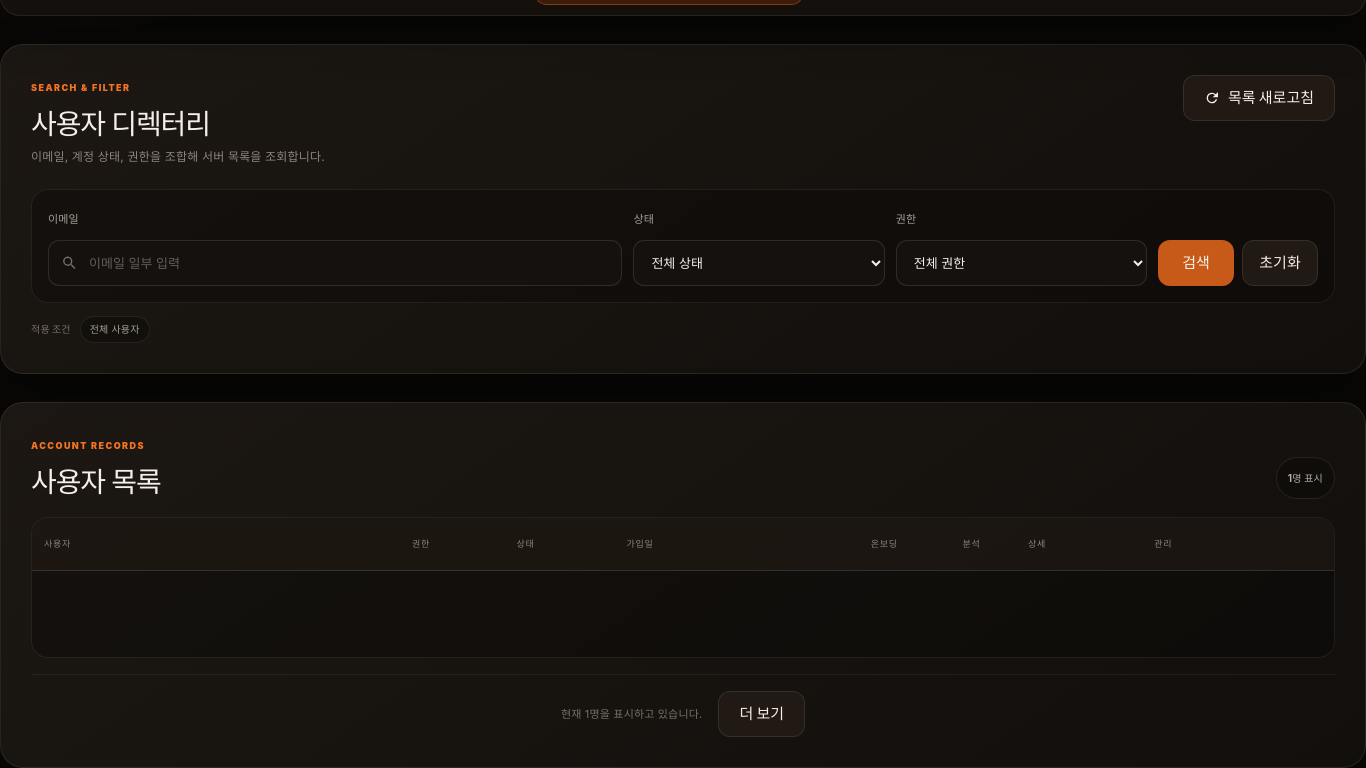
Test: AdminUsersPage › appends the next server page without changing the applied contract
(page scrolled)
Click the button "더 보기". click: (762, 714)
box: [718,691,805,737]
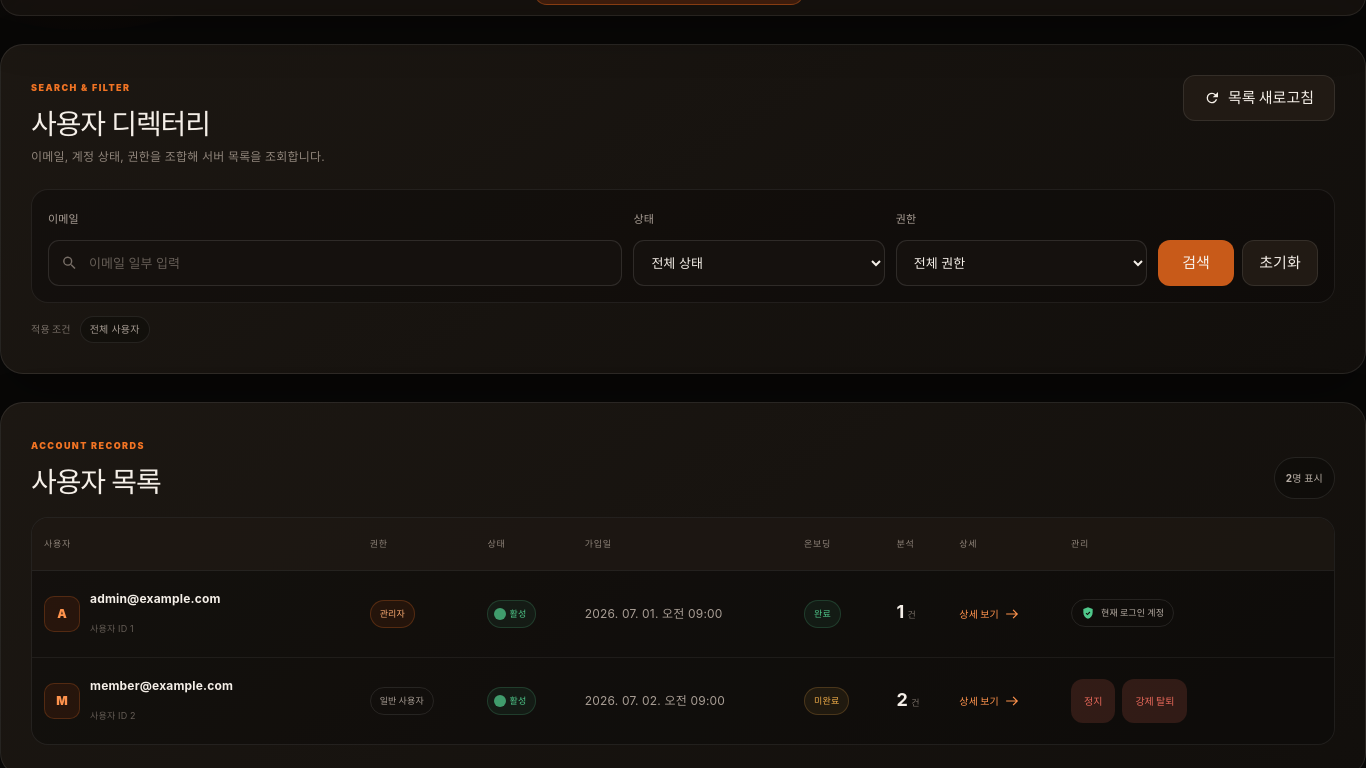
Result: the text "member@example.com" is shown at [90,678,233,693]
